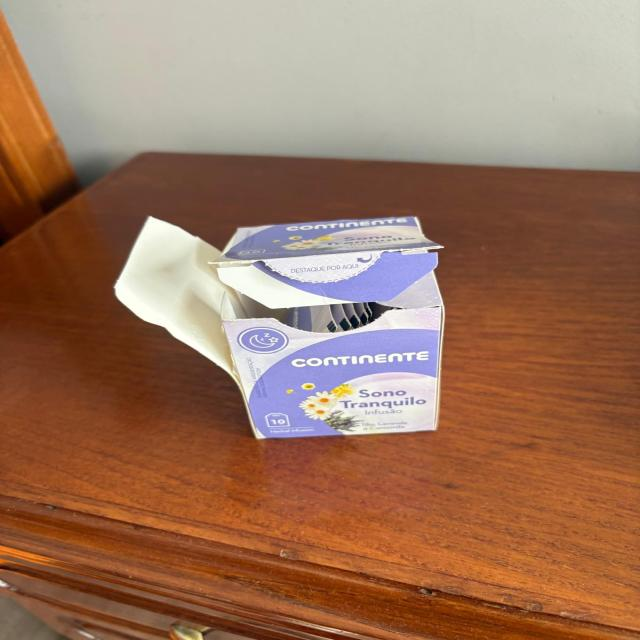damaged_package: (112, 215, 444, 440)
